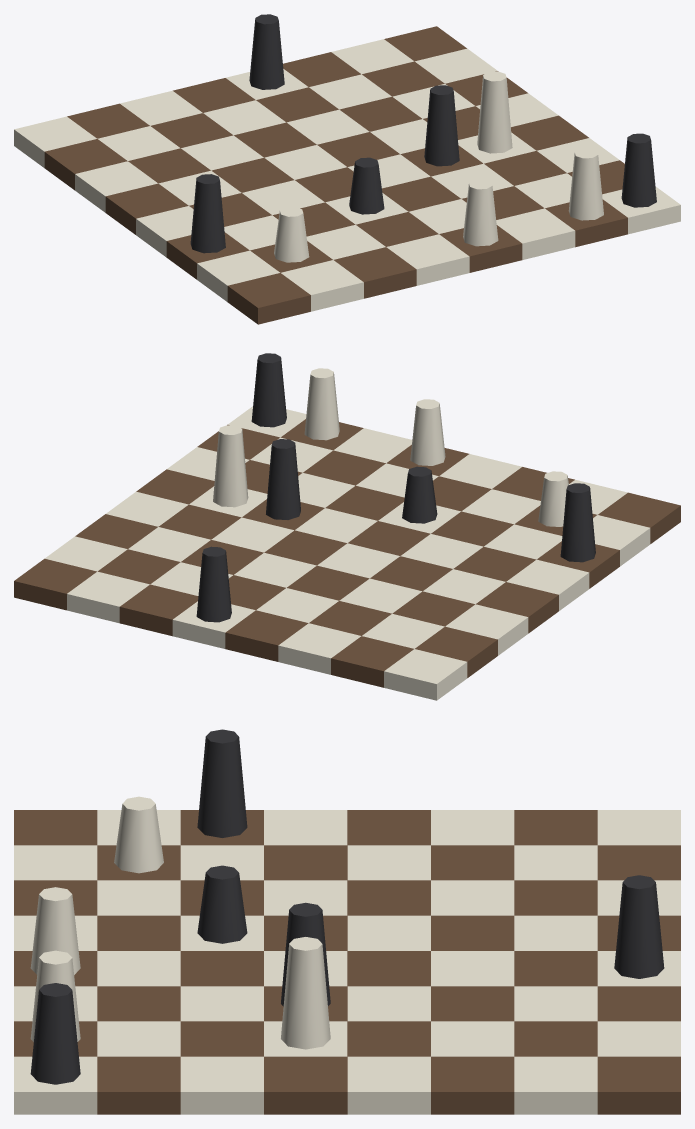
Rendered from chess.glb.
3 views of the same model, one above another, from view 1: azimuth 30°, elevation 25°; view 2: azimuth 150°, elevation 25°; view 3: azimuth 270°, elevation 25° (orthographic). The views are drawn at different scales.
Parts seen in each view (by area): view 1: chess; view 2: chess; view 3: chess.
Boxes of the visible parts, bbox=[...] form: chess: bbox=[14, 14, 680, 324]; chess: bbox=[14, 353, 680, 700]; chess: bbox=[14, 729, 680, 1114].
Bounding box in the file's own units: 0.32 × 0.0624 × 0.32.
